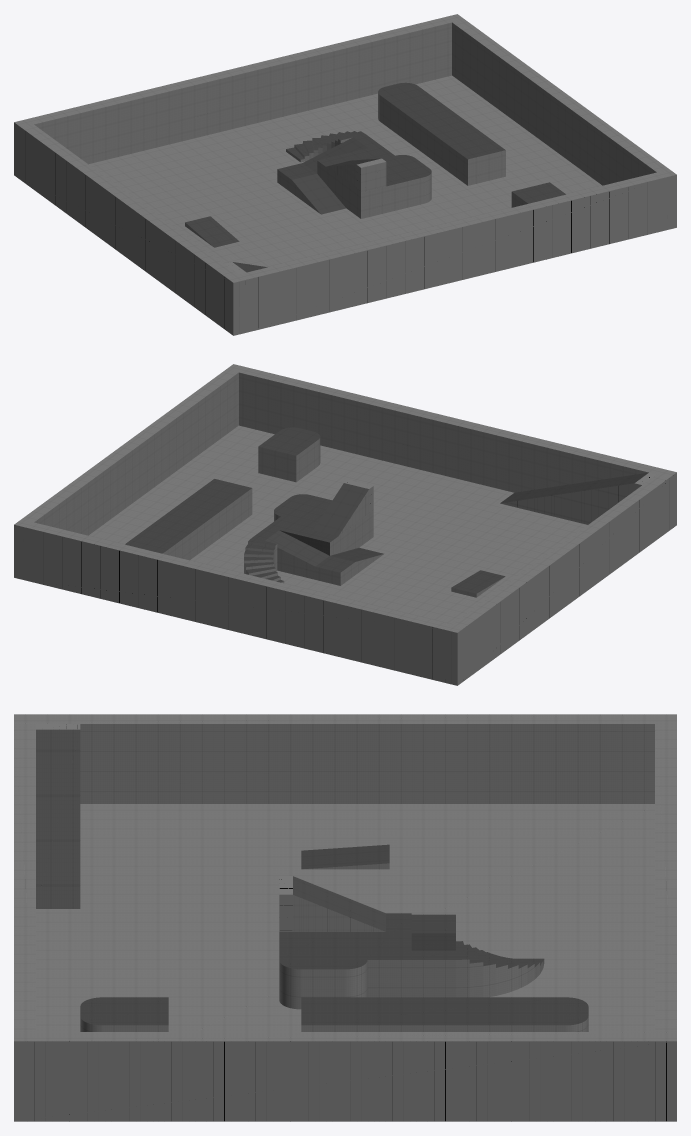
File: collision-world2.glb
3 views of the same model, one above another, from view 1: azimuth 30°, elevation 25°; view 2: azimuth 150°, elevation 25°; view 3: azimuth 270°, elevation 25° (orthographic). The views are drawn at different scales.
Visible parts, largest first — view 1: SM_Cube2; view 2: SM_Cube2; view 3: SM_Cube2.
Part boxes in pixels (x1,y1,x2,y2): SM_Cube2: (14,14,676,335); SM_Cube2: (14,364,676,685); SM_Cube2: (14,714,676,1121).
Bounding box in the file's own units: 35 × 4 × 30.
Materials: 2 (2 with a texture image).
